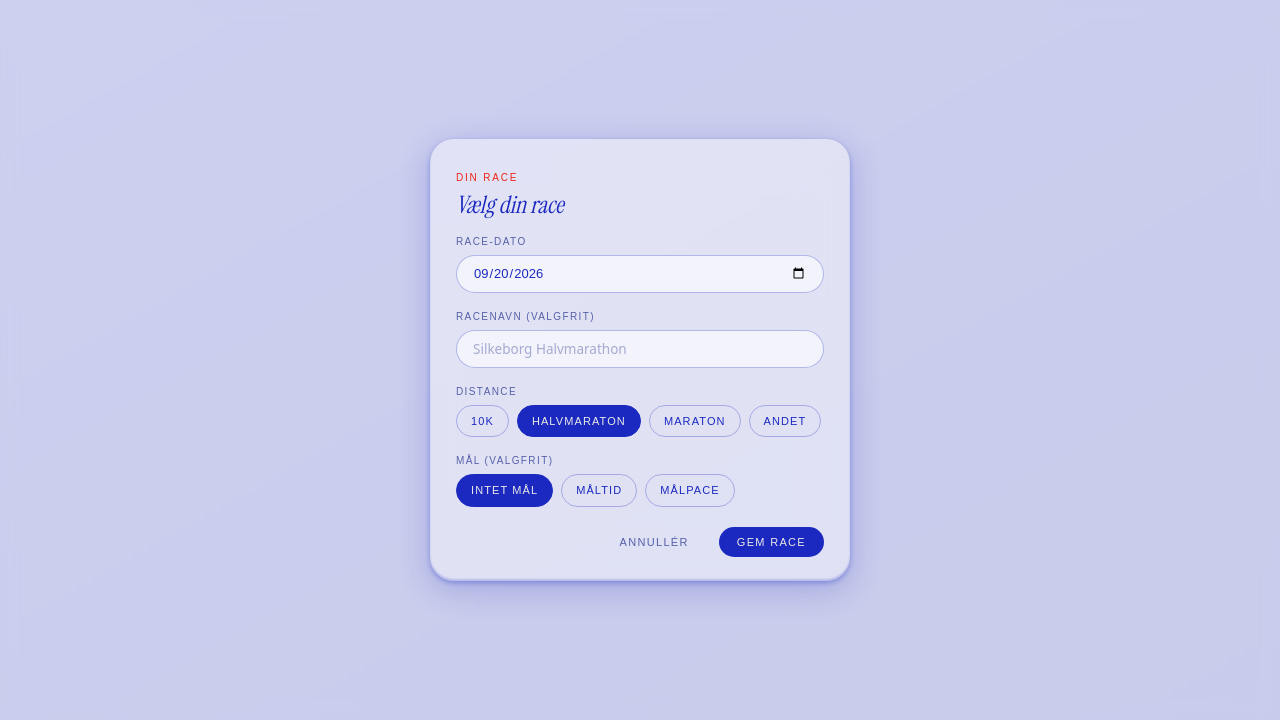
Test: RaceDateDialog — goal entry (issue #239) › offers distance-aware time suggestions that update when the distance changes
Click the button "Måltid" at (599, 491), box [561,474,637,507]
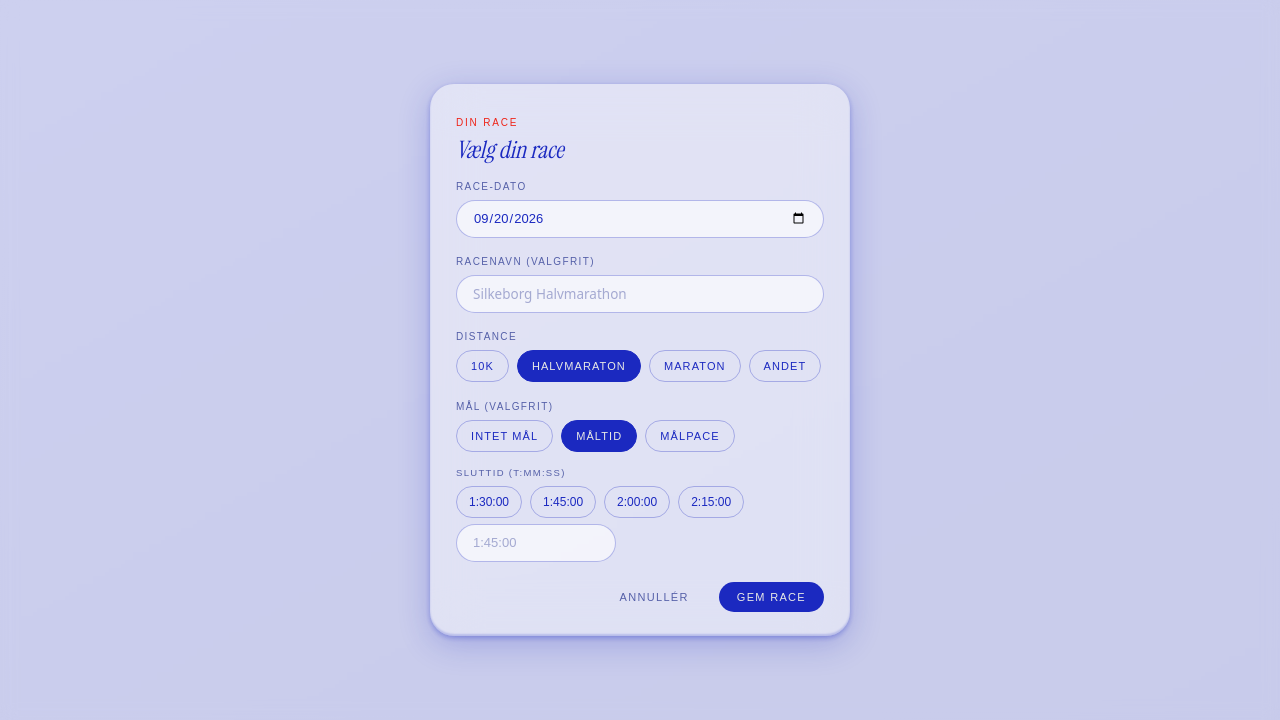
Expected: the button "50:00" is not shown
Expected: the button "1:45:00" is shown, [530,486,596,518]
// Switching the distance re-derives the suggestions for that distance.
Click the button "10K" at (482, 366), box [456,350,509,382]
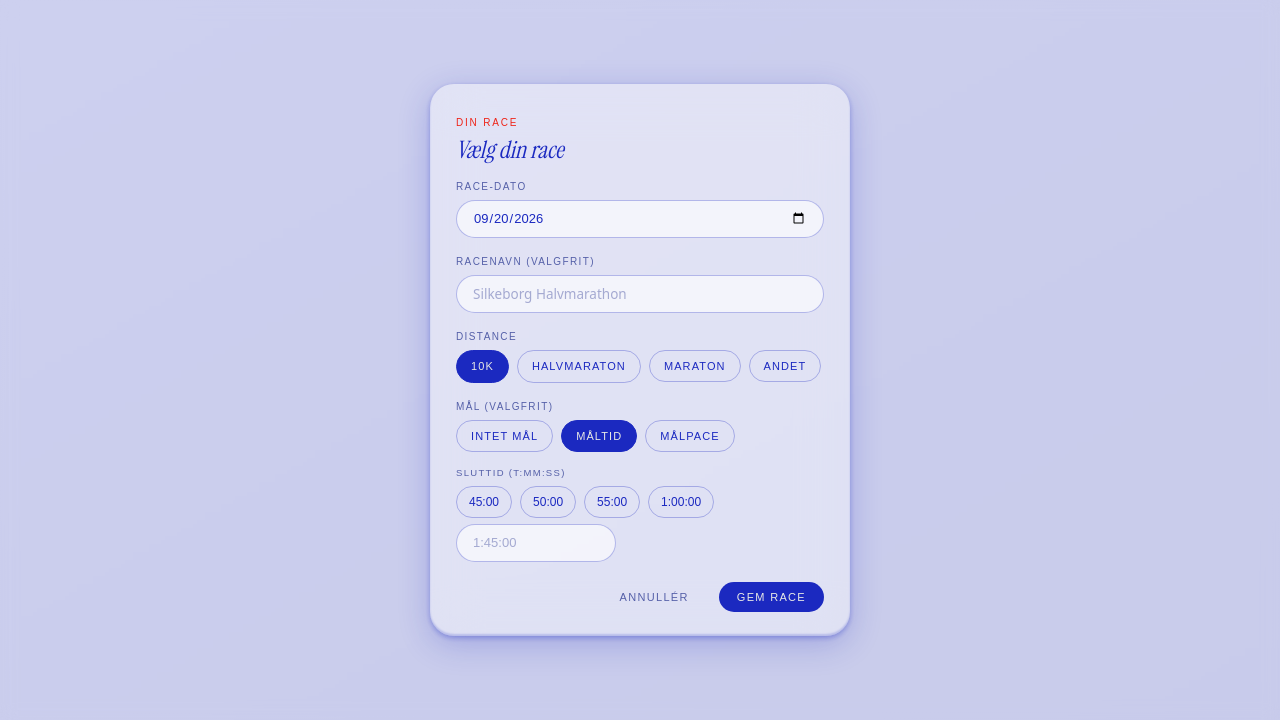
Expected: the button "50:00" is shown, [520,486,576,518]
